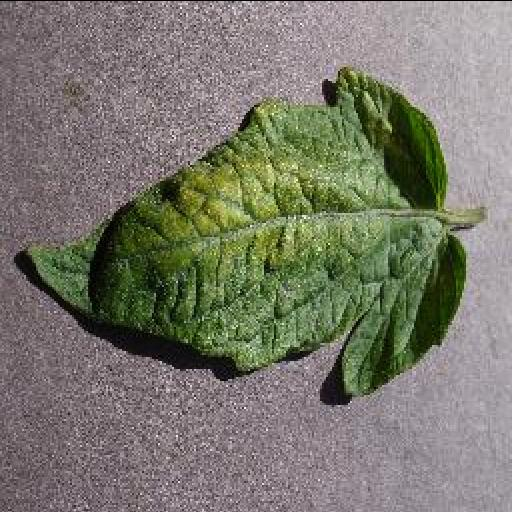disease_tomato: (27, 66, 465, 398)
